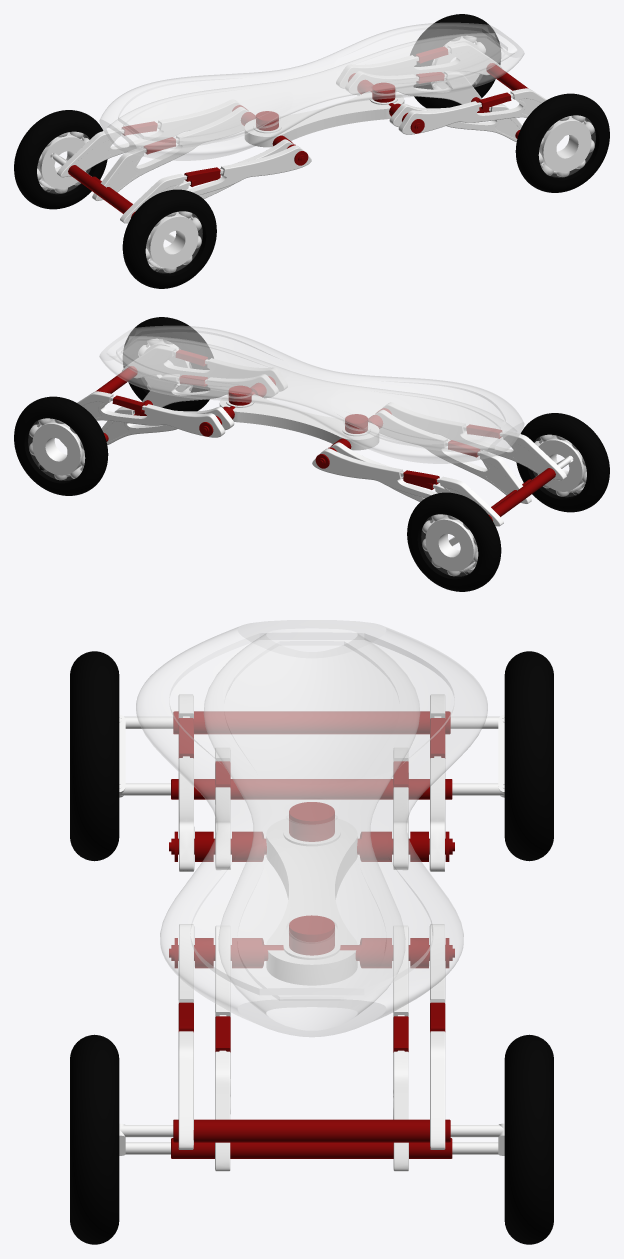
The model's file is model_onesurface.glb.
3 renders of one model, top to bottom at view 1: azimuth 30°, elevation 25°; view 2: azimuth 150°, elevation 25°; view 3: azimuth 270°, elevation 25°, orthographic. The views are drawn at different scales.
Visible parts, largest first — view 1: 预设值 (×28); view 2: 预设值 (×28); view 3: 预设值 (×24).
Part boxes in pixels (x1,y1,x2,y2): 预设值 (×28): [14, 14, 609, 288]; 预设值 (×28): [14, 317, 609, 591]; 预设值 (×24): [70, 620, 553, 1244].
Size of the model in its own units: 0.9773 by 0.2258 by 0.4233.
